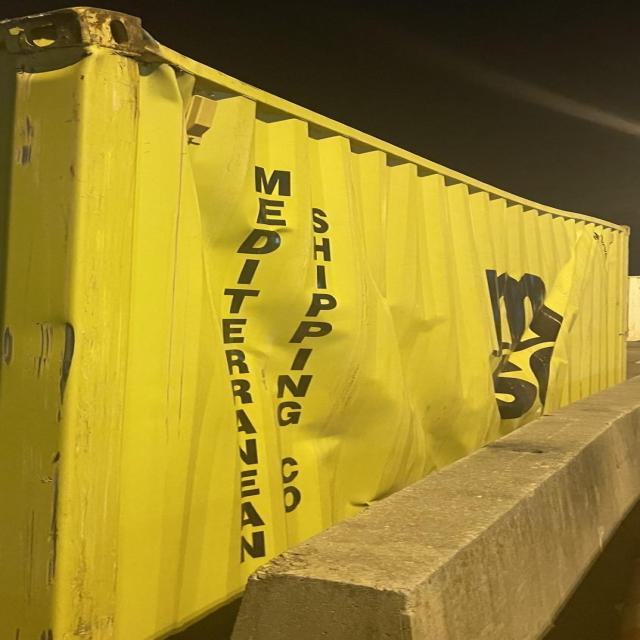dent: (173, 195, 555, 456), (158, 64, 213, 215), (2, 35, 110, 93)
